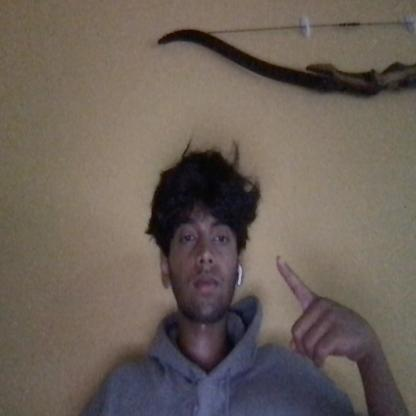finger_point: (260, 231, 300, 286)
